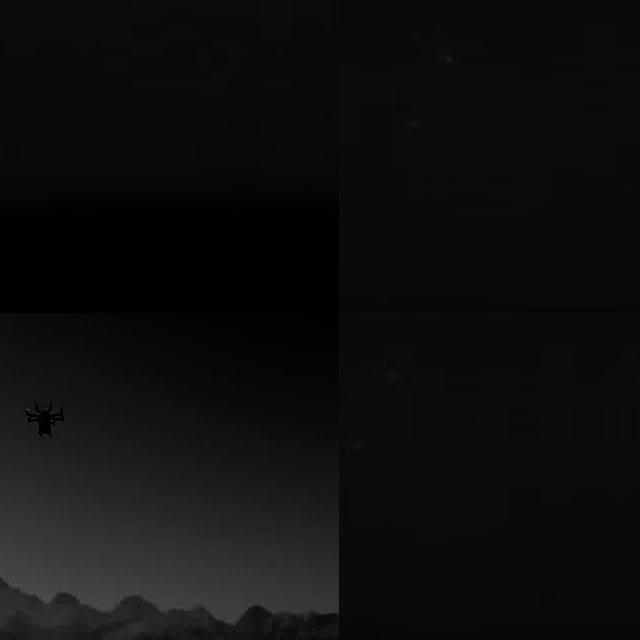0: (435, 45, 465, 75), (405, 114, 431, 142), (380, 362, 406, 390), (347, 435, 371, 465)
drone: (20, 396, 70, 440)
